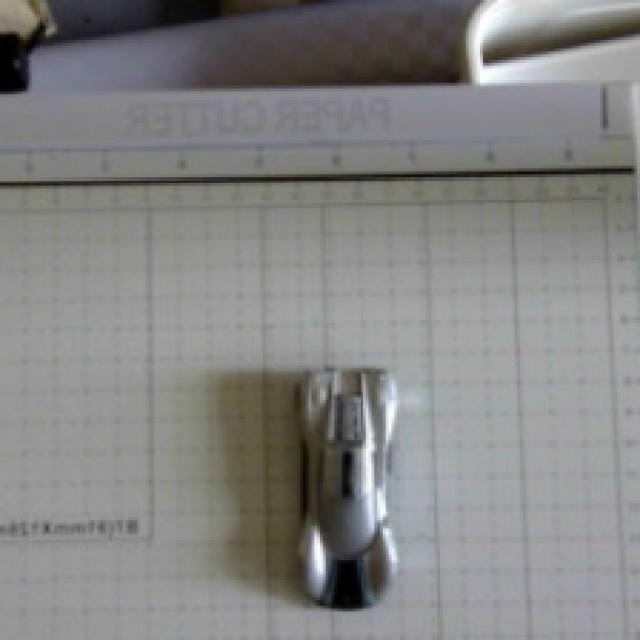Grey Car: (235, 317, 448, 622)
